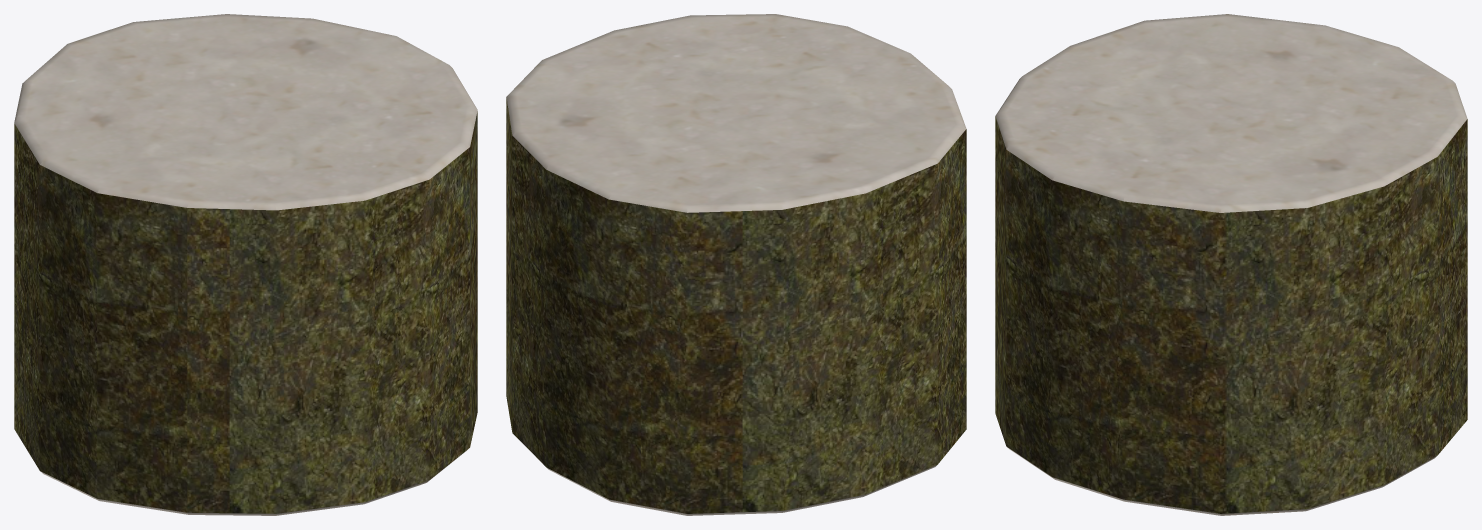
The model's file is _iceroll.fbx.
3 views of the same model, side by side, from view 1: azimuth 30°, elevation 25°; view 2: azimuth 150°, elevation 25°; view 3: azimuth 270°, elevation 25° (orthographic).
Parts seen in each view (by area): view 1: sushi_1_02; view 2: sushi_1_02; view 3: sushi_1_02.
Part boxes in pixels (<box>): sushi_1_02: <box>14,14,477,515</box>; sushi_1_02: <box>506,14,966,515</box>; sushi_1_02: <box>995,14,1467,515</box>.
Size of the model in its own units: 71.58 by 52.4 by 72.51.
Materials: 1 (1 with a texture image).
